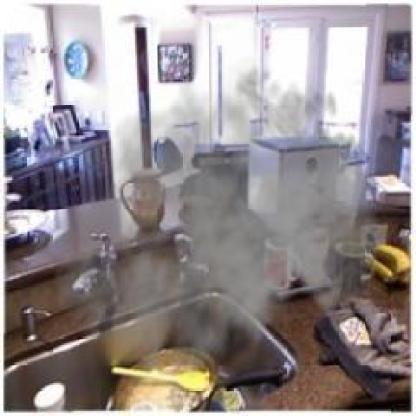Smoke: (52, 52, 390, 395)
